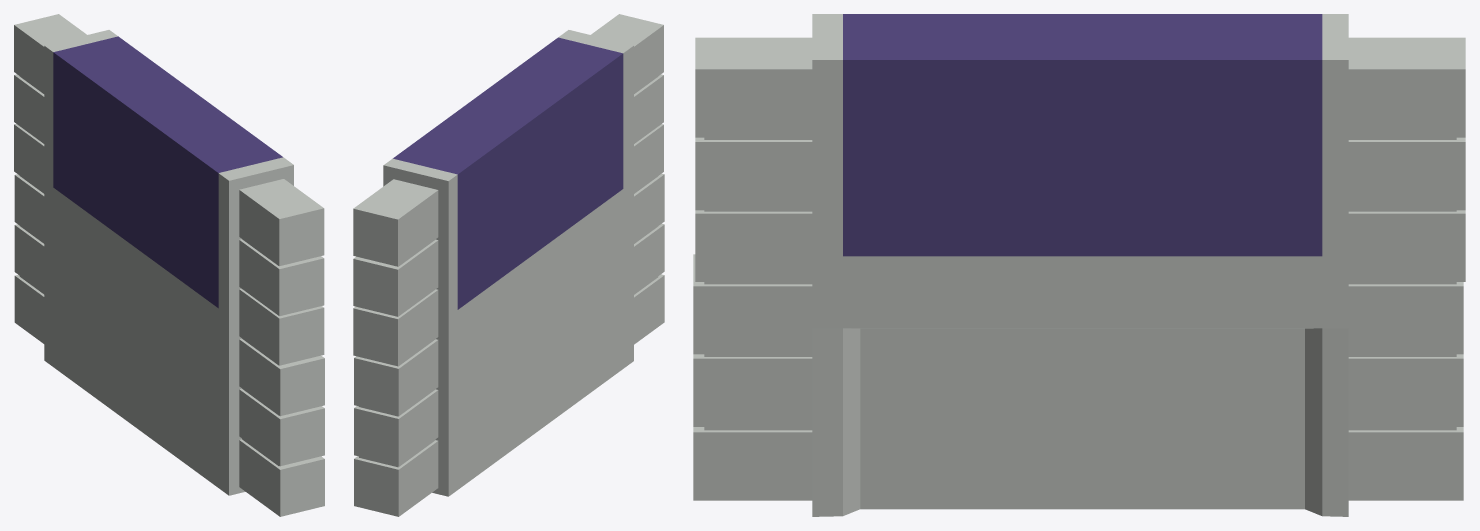
File: snescart.fbx
The picture shows the model from 3 angles, left to right: view 1: azimuth 30°, elevation 25°; view 2: azimuth 150°, elevation 25°; view 3: azimuth 270°, elevation 25°; orthographic projection. The views are drawn at different scales.
Parts seen in each view (by area): view 1: Cube; view 2: Cube; view 3: Cube.
Boxes of the visible parts, x1,y1,x2,y2 form: Cube: (14, 14, 324, 516); Cube: (353, 14, 664, 516); Cube: (693, 14, 1465, 516).
Size of the model in its own units: 103 by 476 by 729.
